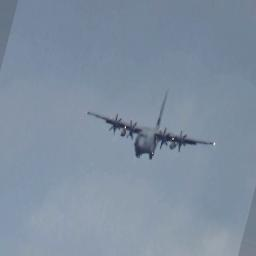Airplane: (86, 106, 218, 161)
